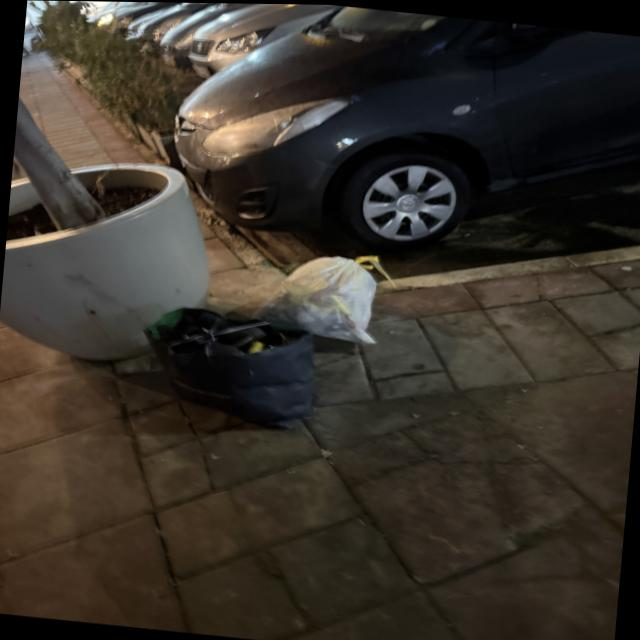Others Waste: (141, 306, 311, 429)
Recyclable Material -Grey Bags-: (248, 256, 373, 337)
